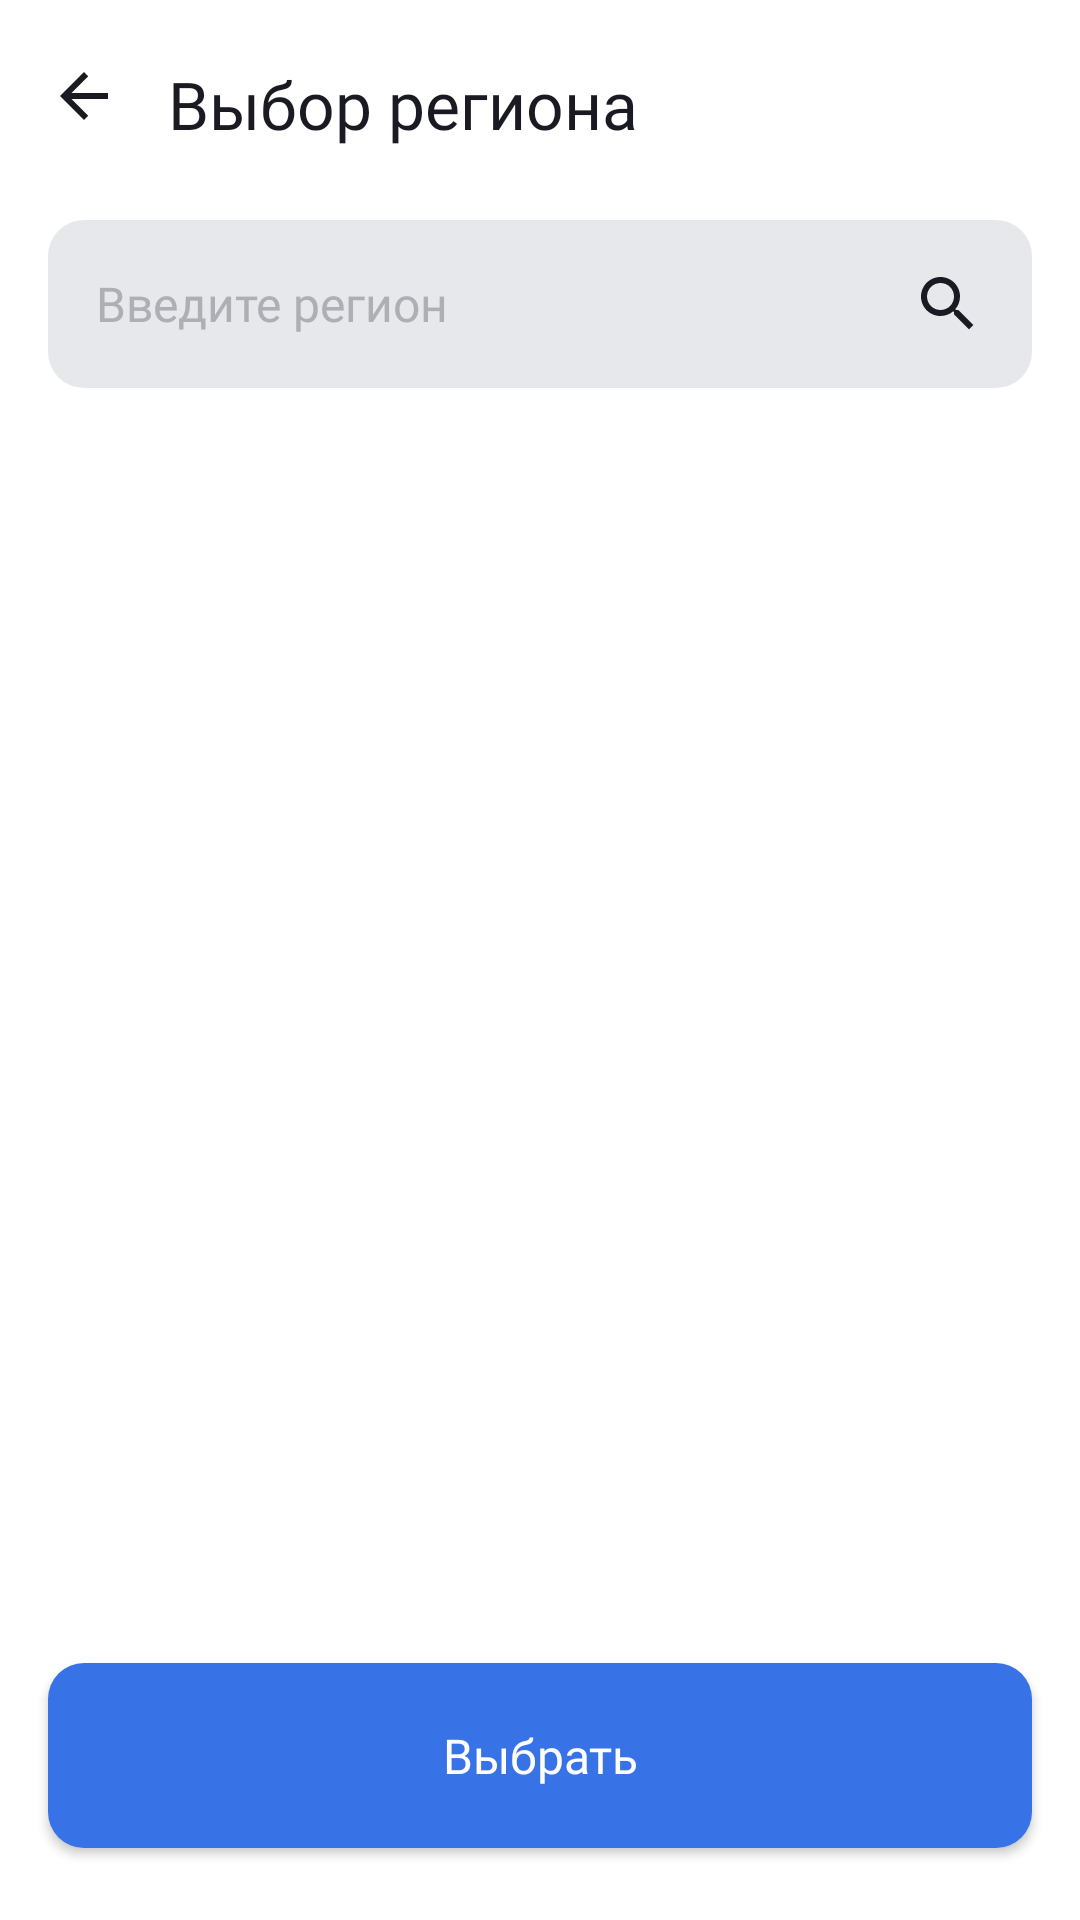

Icon bounding boxes for this 1080 x 1920 phone screenshot, format (x1=x1, y1=y1, x2=x2, y2=y2):
back arrow: (x1=60, y1=72, x2=108, y2=120)
